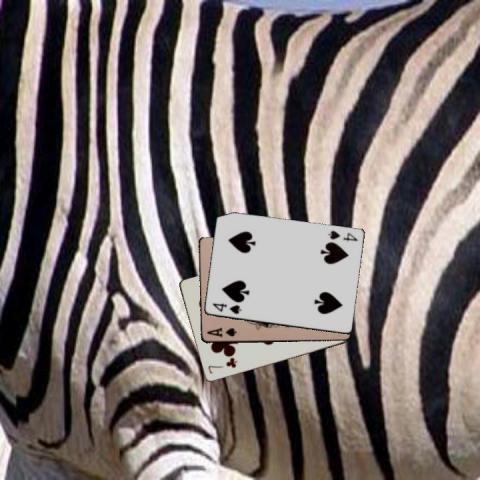4s: (324, 227, 358, 243), (209, 301, 243, 315)
7c: (205, 356, 238, 375)
As: (204, 325, 237, 338)
